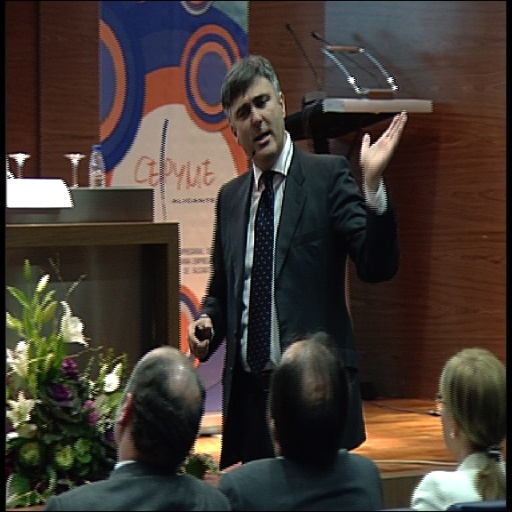hand: (352, 112, 398, 199), (184, 317, 213, 360)
